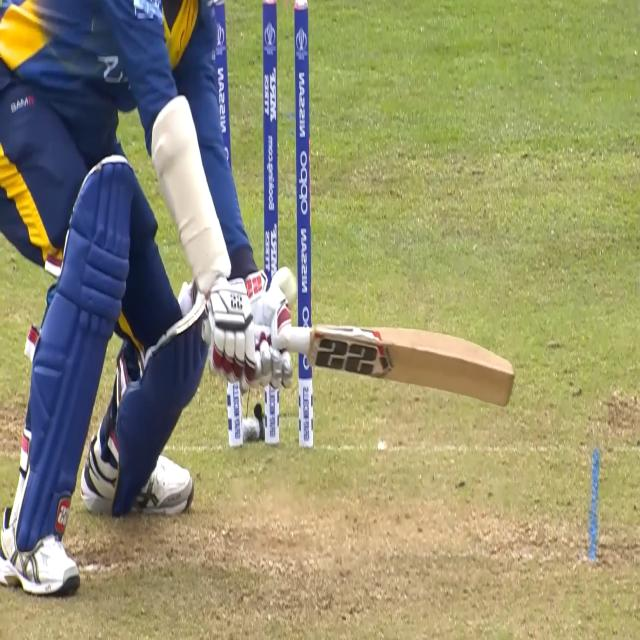ball: (275, 260, 300, 299)
